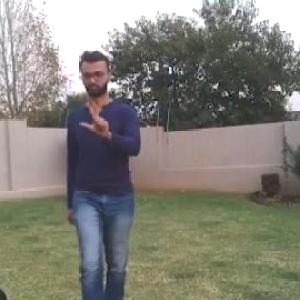land_hand: (76, 103, 116, 146)
